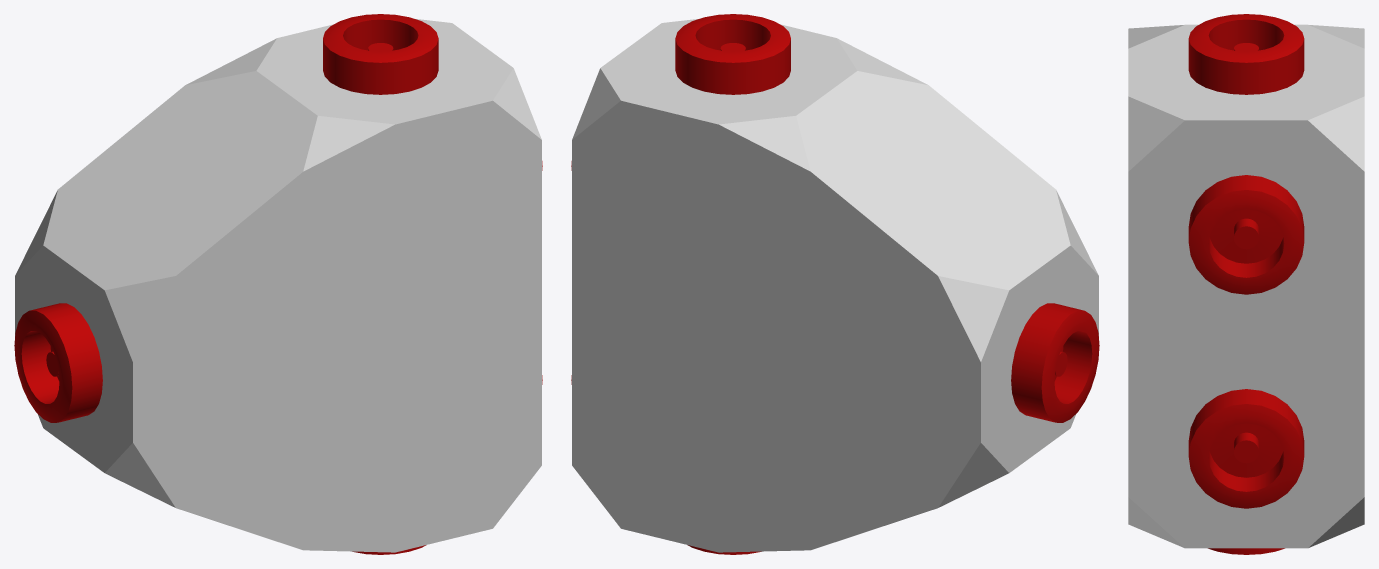
The model's file is LowVoltageJunction.gltf.
3 views of the same model, side by side, from view 1: azimuth 30°, elevation 25°; view 2: azimuth 150°, elevation 25°; view 3: azimuth 270°, elevation 25° (orthographic).
Parts seen in each view (by area): view 1: base; view 2: base; view 3: base.
Part boxes in pixels (bbox=[...]): base: bbox=[14, 14, 542, 554]; base: bbox=[571, 14, 1099, 554]; base: bbox=[1128, 14, 1364, 554].
Bounding box in the file's own units: 0.2908 × 0.2908 × 0.125.
